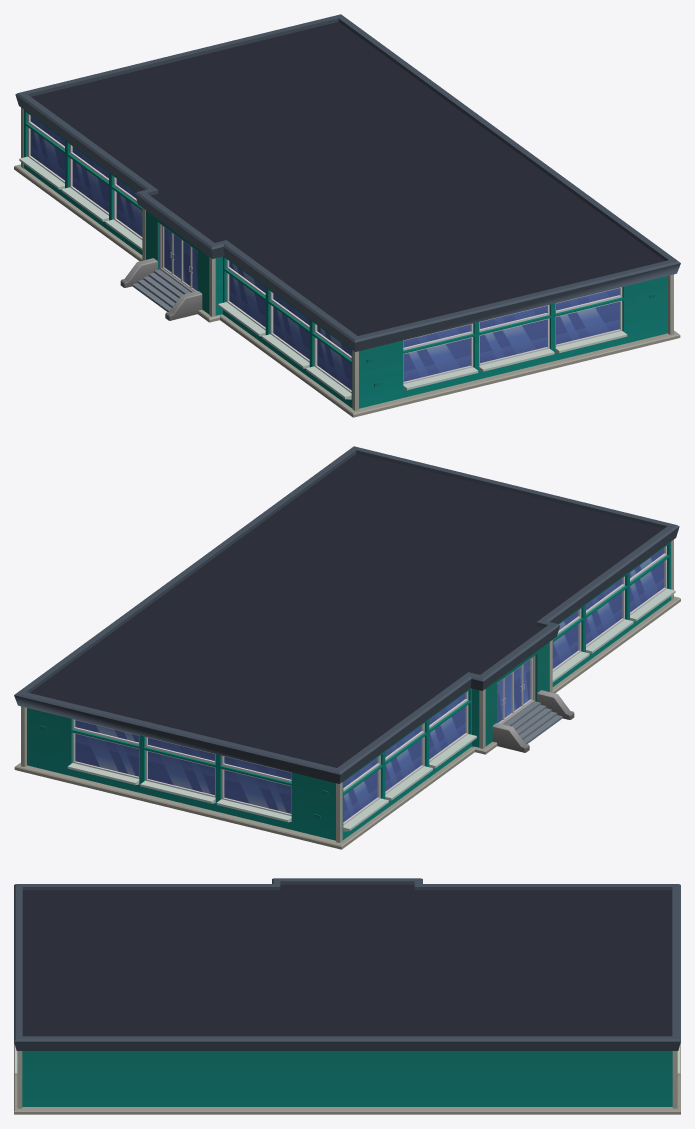
File: Building_16_1_D.fbx
3 views of the same model, one above another, from view 1: azimuth 30°, elevation 25°; view 2: azimuth 150°, elevation 25°; view 3: azimuth 270°, elevation 25° (orthographic).
Visible parts, largest first — view 1: Building_16_1_D; view 2: Building_16_1_D; view 3: Building_16_1_D.
Part boxes in pixels (left/top/right/bottom): Building_16_1_D: left=14, top=14, right=680, bottom=417; Building_16_1_D: left=14, top=446, right=680, bottom=849; Building_16_1_D: left=14, top=878, right=680, bottom=1114.
Size of the model in its own units: 1888 by 375 by 3026.
